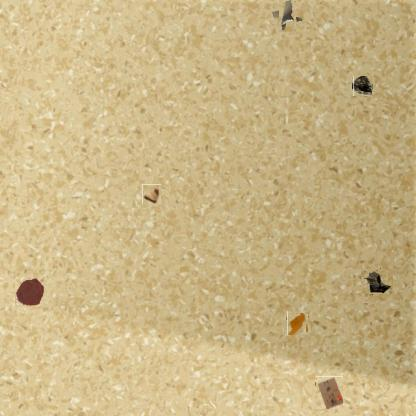dirty: (315, 376, 343, 409), (362, 266, 392, 296), (274, 2, 300, 28), (142, 184, 161, 205), (353, 77, 372, 96)
liquid: (14, 277, 44, 307), (286, 313, 307, 334)
